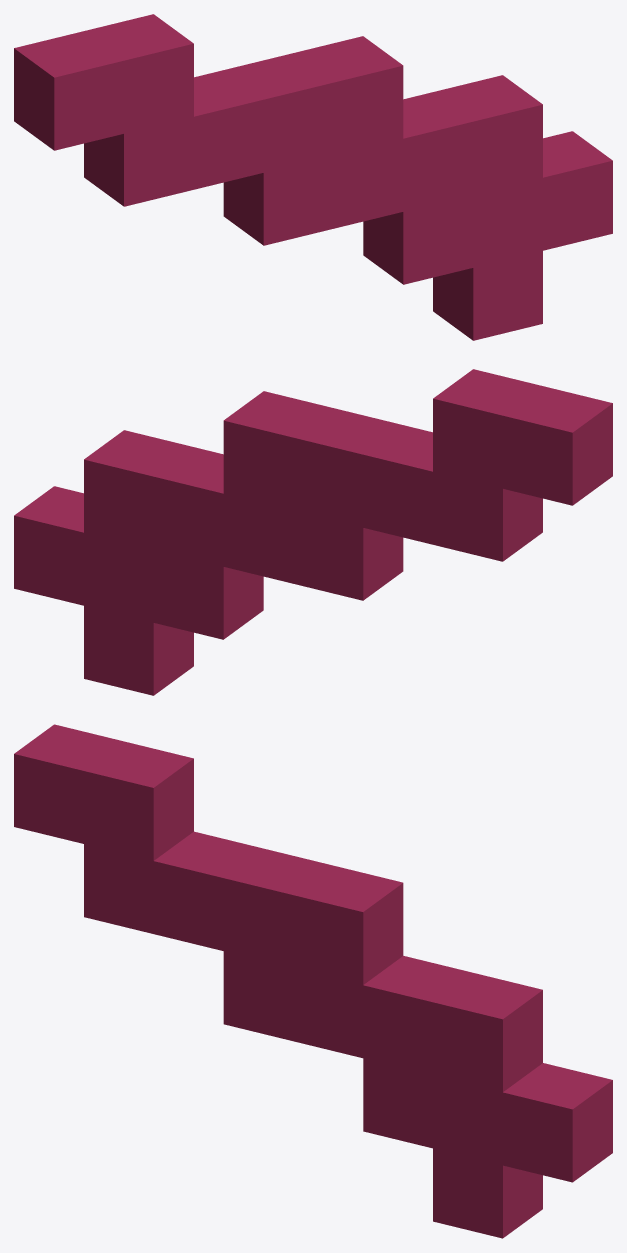
File: Lightning-Large-Purple.vox.obj
3 views of the same model, one above another, from view 1: azimuth 30°, elevation 25°; view 2: azimuth 150°, elevation 25°; view 3: azimuth 330°, elevation 25° (orthographic).
Size of the model in its own units: 0.8 by 0.5 by 0.1.
1 material, 1 textured.
